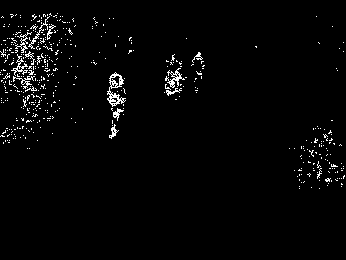person: (105, 71, 129, 139)
